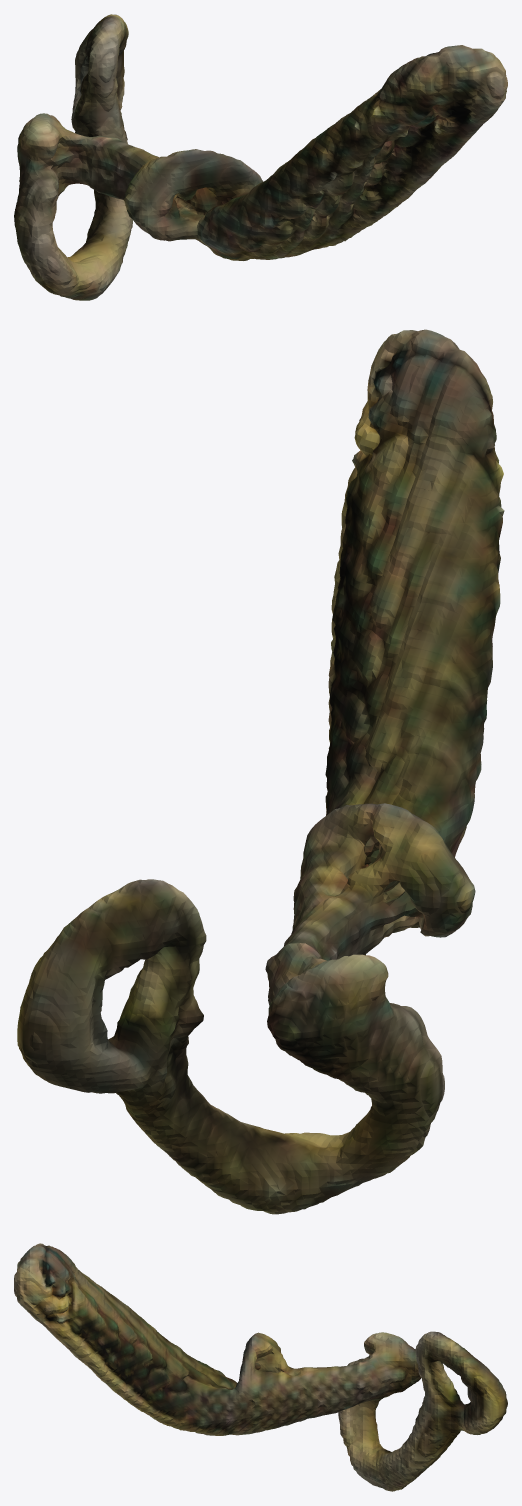
3 renders of one model, top to bottom at view 1: azimuth 30°, elevation 25°; view 2: azimuth 150°, elevation 25°; view 3: azimuth 270°, elevation 25°, orthographic. The views are drawn at different scales.
Bounding box in the file's own units: 0.4691 × 0.6613 × 1.03.
